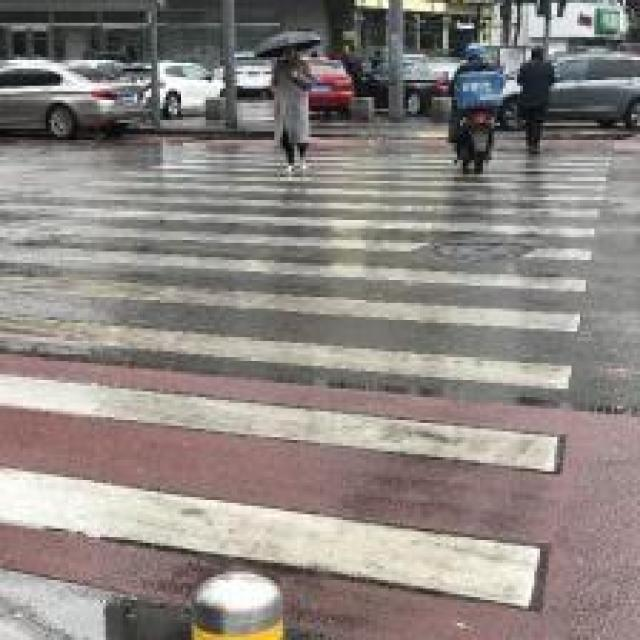crosswalk: (0, 132, 614, 634)
